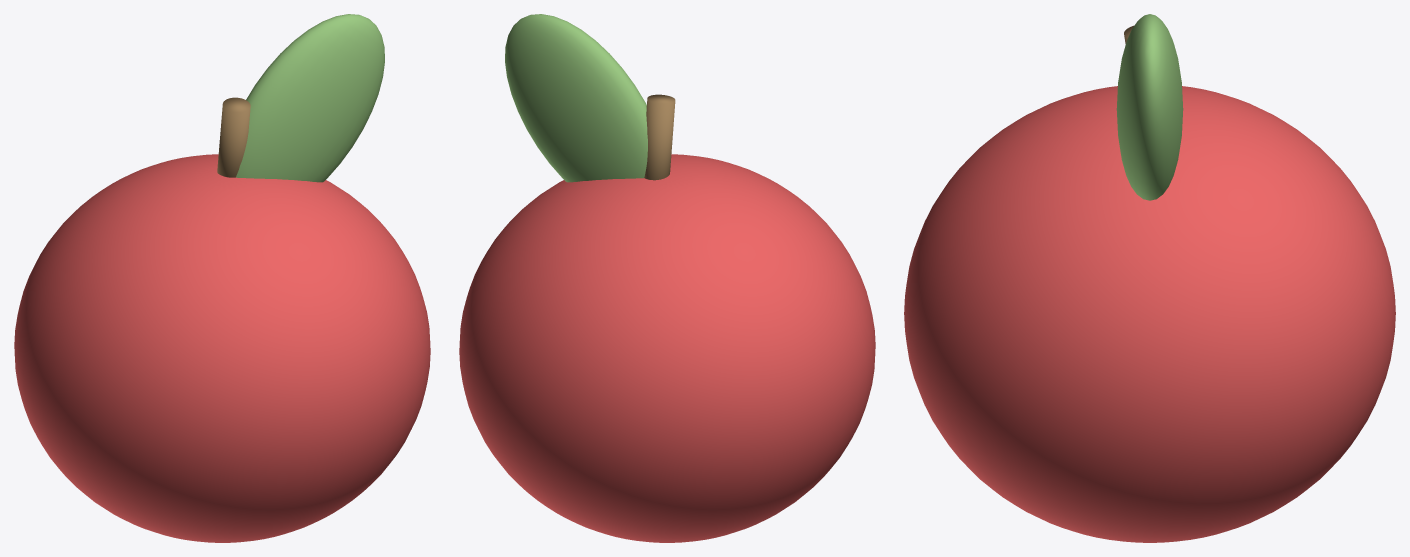
File: apple.glb
3 renders of one model, left to right at view 1: azimuth 30°, elevation 25°; view 2: azimuth 150°, elevation 25°; view 3: azimuth 270°, elevation 25°, orthographic. The views are drawn at different scales.
Visible parts, largest first — view 1: Sphere; view 2: Sphere; view 3: Sphere.
Part boxes in pixels (<box>): Sphere: <box>14,14,430,542</box>; Sphere: <box>459,14,875,542</box>; Sphere: <box>904,14,1395,542</box>.
Size of the model in its own units: 0.0632 by 0.08 by 0.0632.
